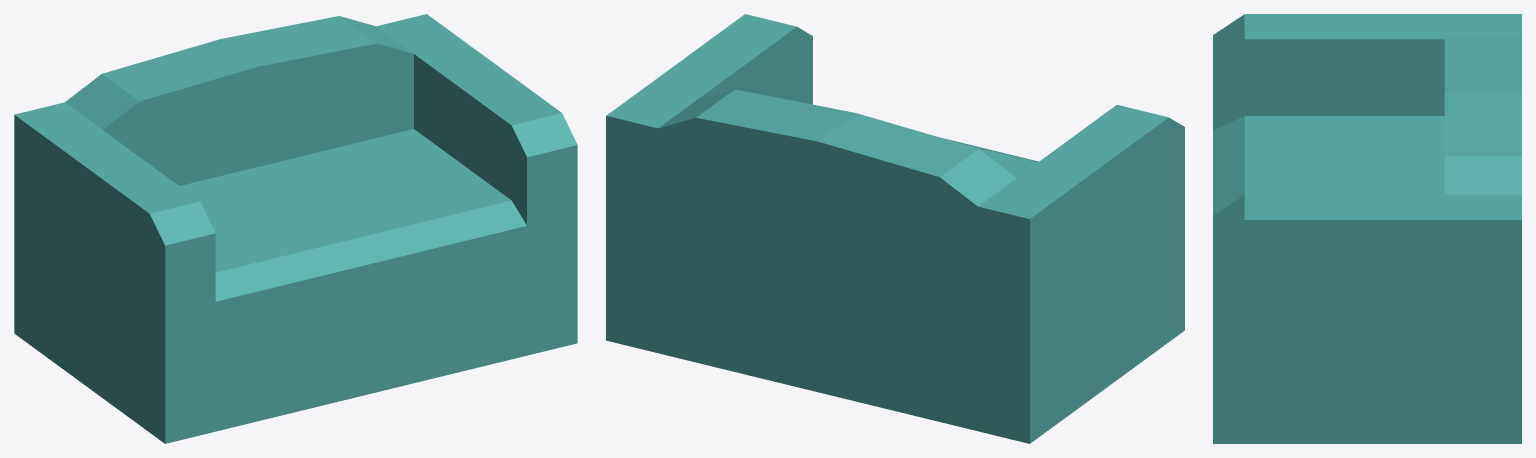
Rendered from hard_couch_1.fbx.
3 views of the same model, side by side, from view 1: azimuth 30°, elevation 25°; view 2: azimuth 150°, elevation 25°; view 3: azimuth 270°, elevation 25° (orthographic). The views are drawn at different scales.
Visible parts, largest first — view 1: hard_couch_1; view 2: hard_couch_1; view 3: hard_couch_1.
Part boxes in pixels (box(x1,y1,x2,y2)): hard_couch_1: box(14, 14, 577, 443); hard_couch_1: box(606, 14, 1184, 443); hard_couch_1: box(1213, 14, 1521, 443).
Size of the model in its own units: 4.97 by 2.81 by 3.15.
